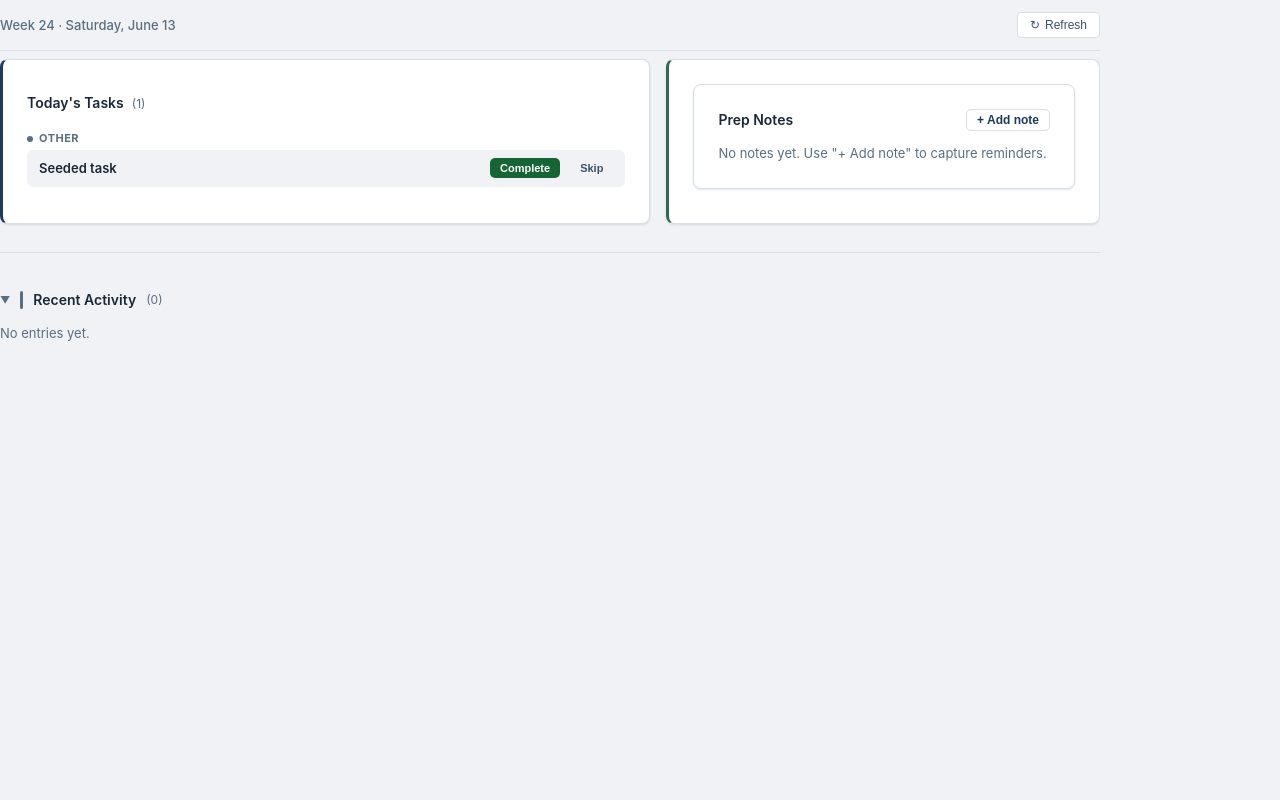
Test case: DashboardView — task modal dirty-state close guard (Task 9.14) › Cancel from the confirm dialog keeps the modal open
This screenshot has width=1280, height=800.
Click the button with aria-label "edit seeded task" at coordinates (78, 168), box [27,150,625,187]
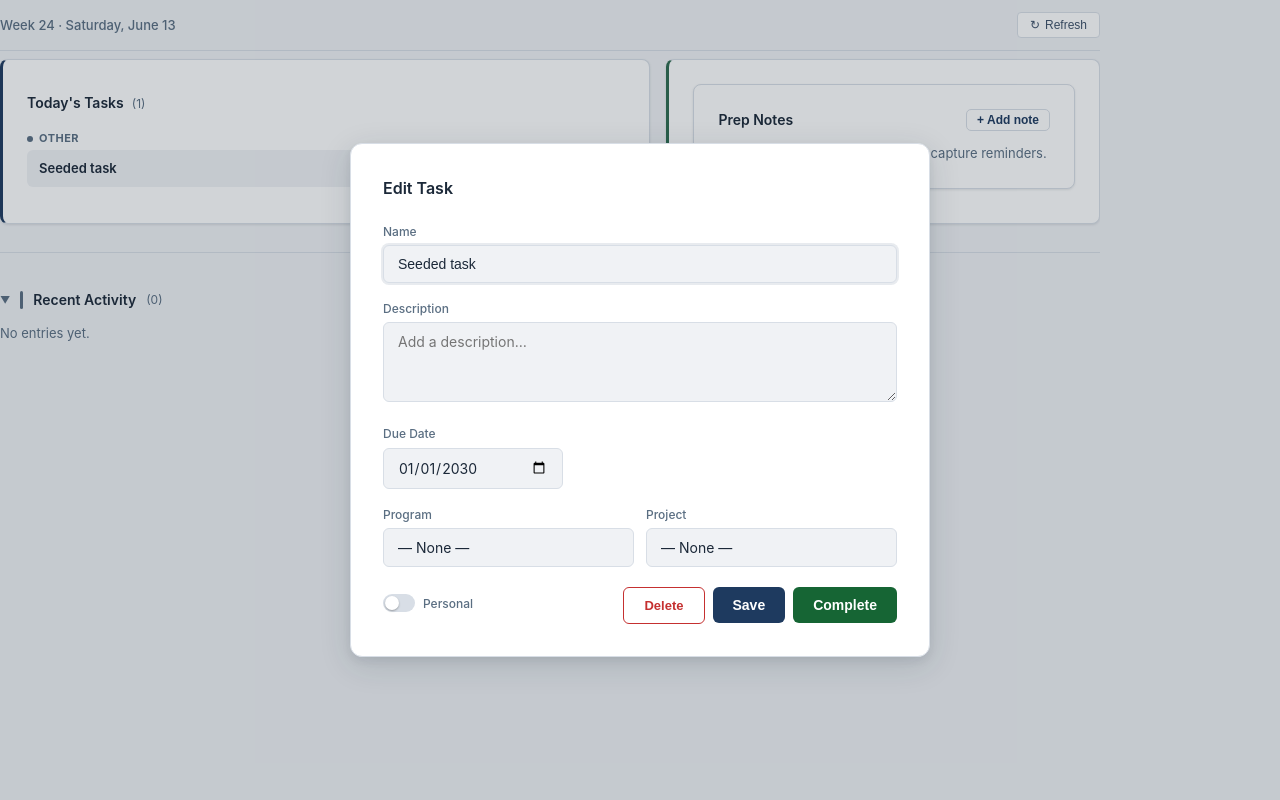
Replace the text in the field showing "Seeded task" with "Seeded task edited" at coordinates (640, 264), box [383,245,897,283]
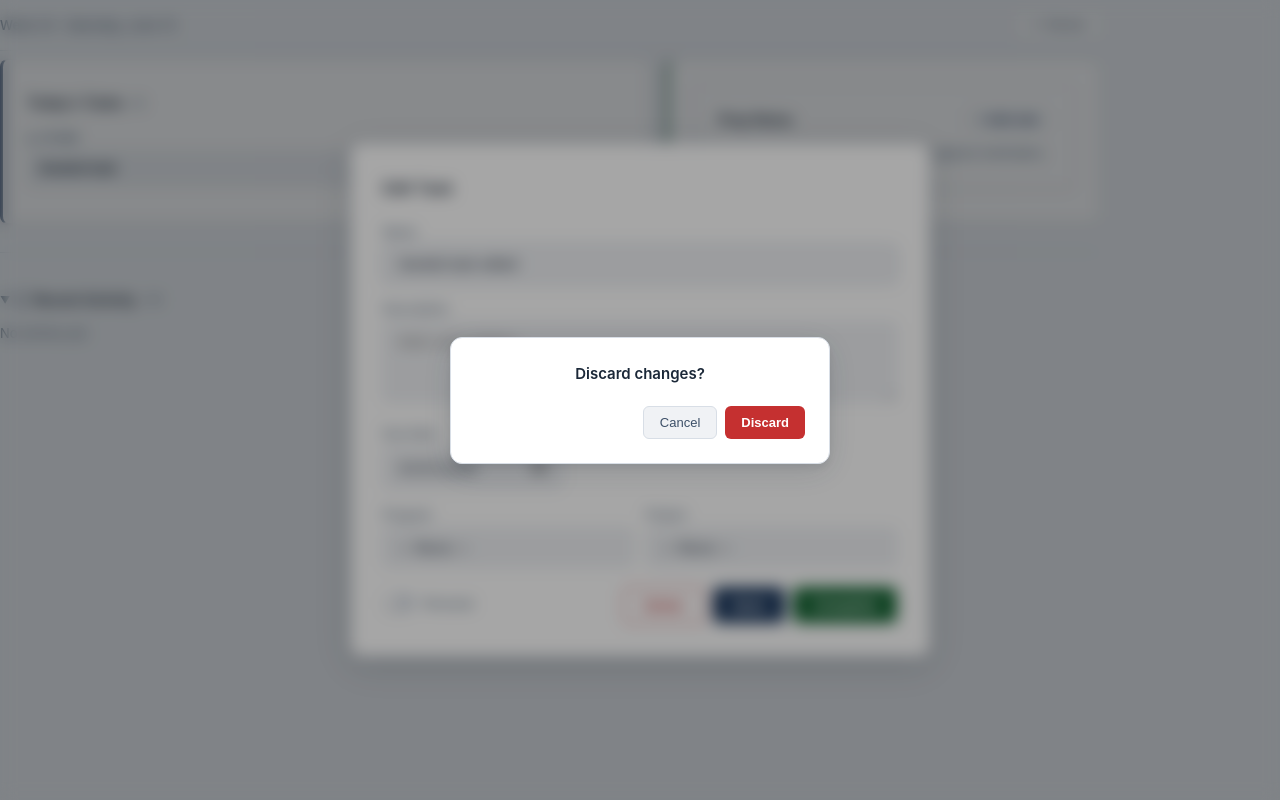
Click the button "Cancel" at coordinates (680, 422), box [643,406,717,438]
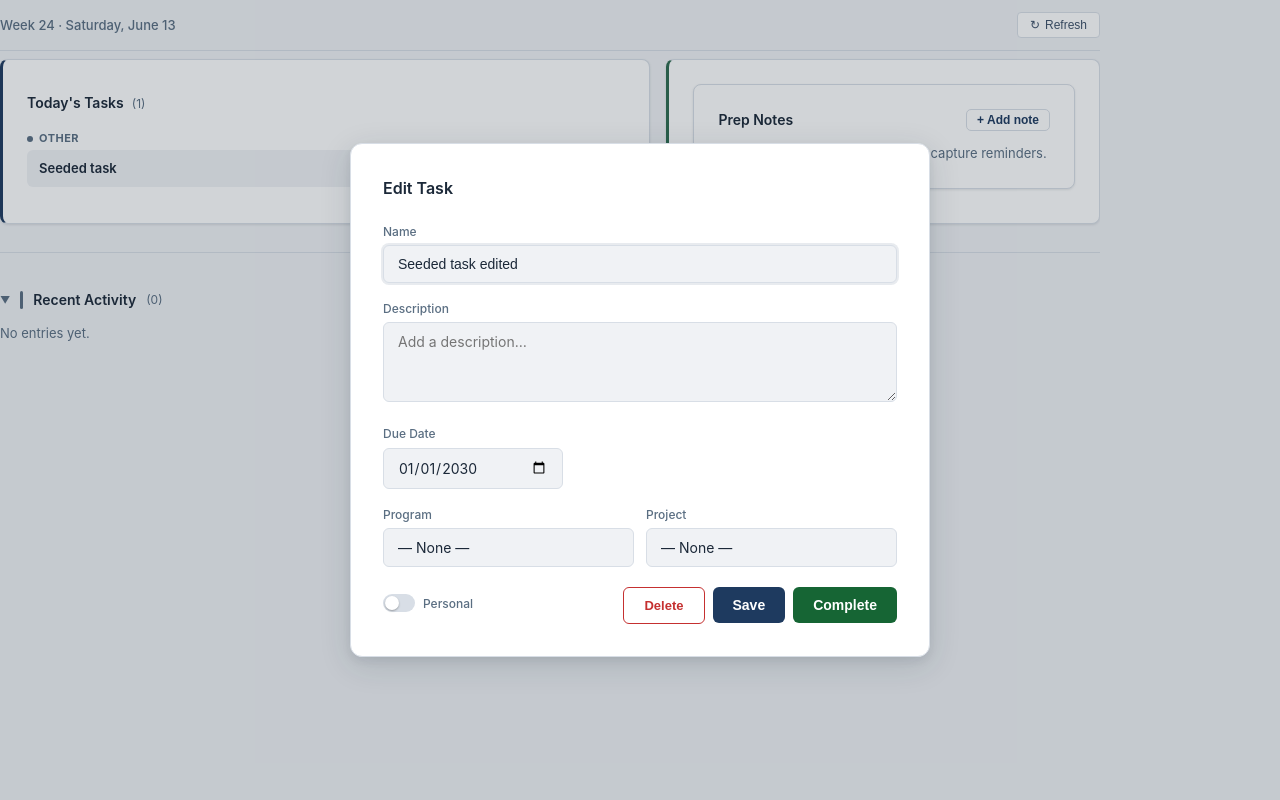
Expected: the dialog "Edit Task" is shown
Expected: the text "Discard changes" is gone
